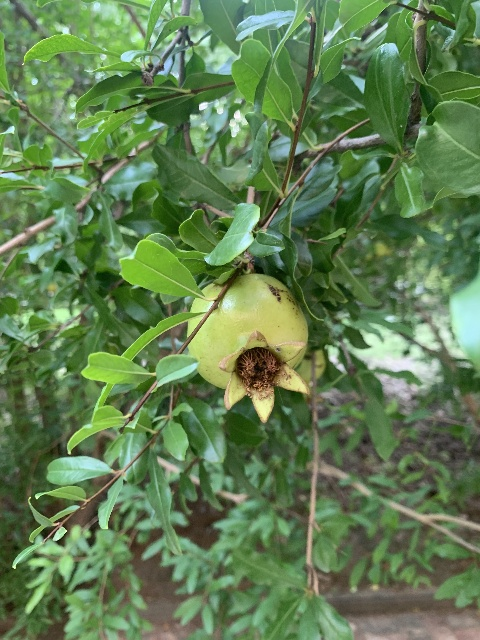mid-growth: (186, 273, 312, 424), (296, 349, 326, 403)
